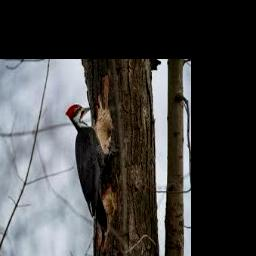Woodpecker: (66, 104, 115, 247)
